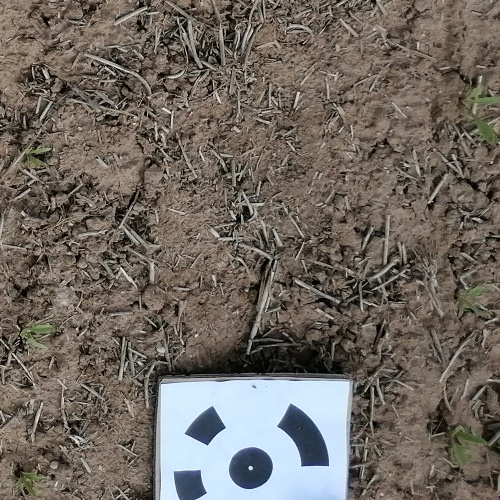beet: (459, 96, 500, 144), (451, 427, 486, 467), (20, 322, 51, 350), (461, 288, 489, 319), (15, 471, 45, 495), (25, 145, 52, 171)
